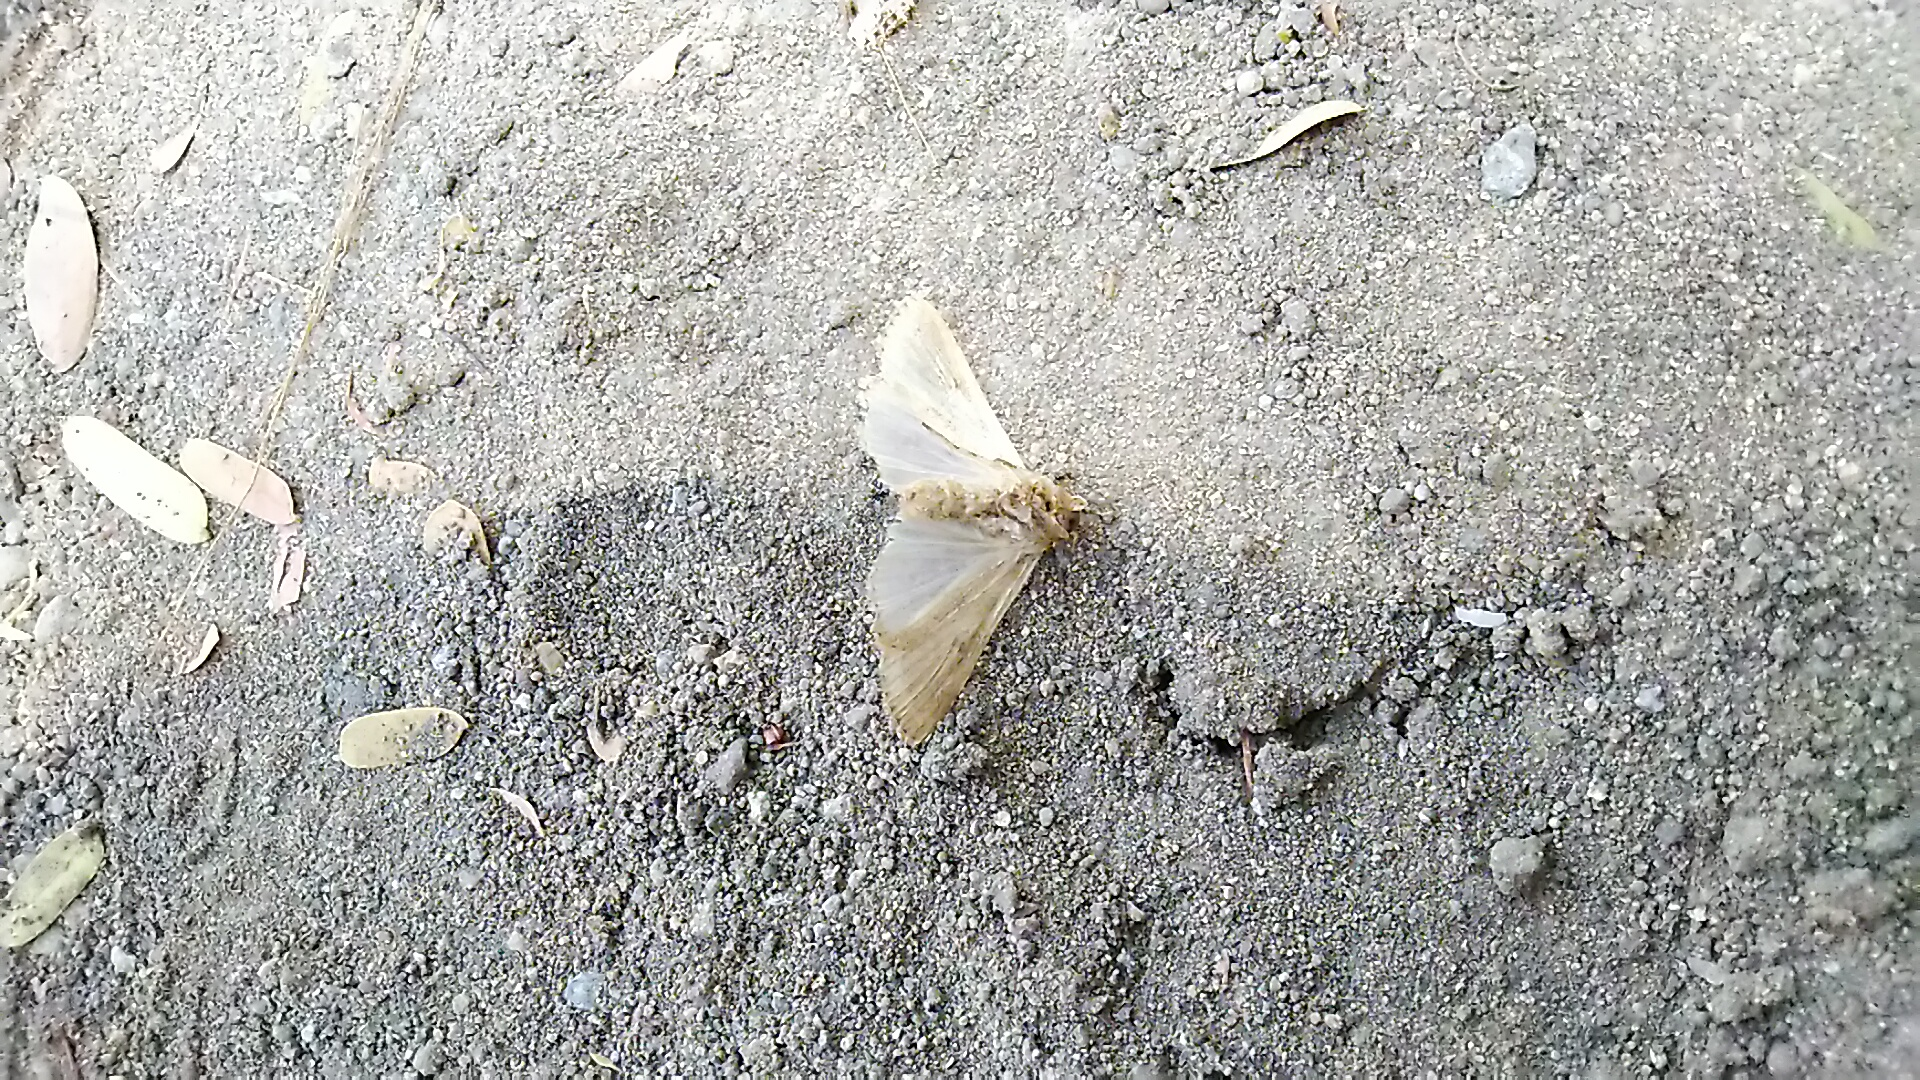INS-B: (829, 284, 1116, 754)
